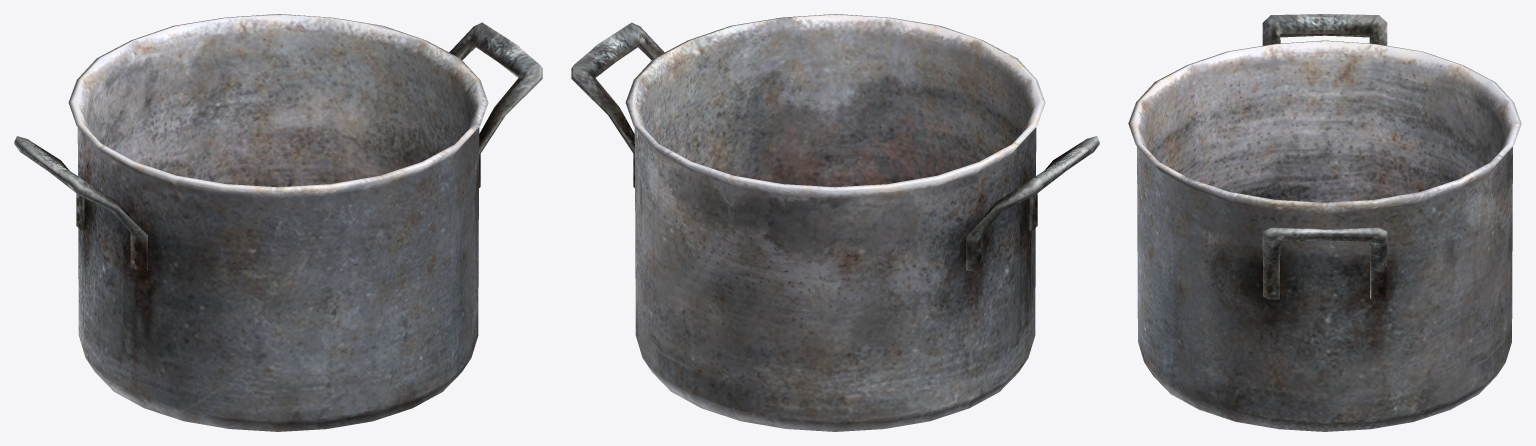
File: kitchen01.FBX
The picture shows the model from 3 angles, left to right: view 1: azimuth 30°, elevation 25°; view 2: azimuth 150°, elevation 25°; view 3: azimuth 270°, elevation 25°; orthographic projection. The views are drawn at different scales.
Parts seen in each view (by area): view 1: SM_Def_Kitchen_01; view 2: SM_Def_Kitchen_01; view 3: SM_Def_Kitchen_01.
Part boxes in pixels (x1,y1,x2,y2): SM_Def_Kitchen_01: [14, 14, 542, 431]; SM_Def_Kitchen_01: [571, 14, 1099, 431]; SM_Def_Kitchen_01: [1128, 14, 1521, 431].
Size of the model in its own units: 42.28 by 21.27 by 32.2.
Materials: 1 (1 with a texture image).
